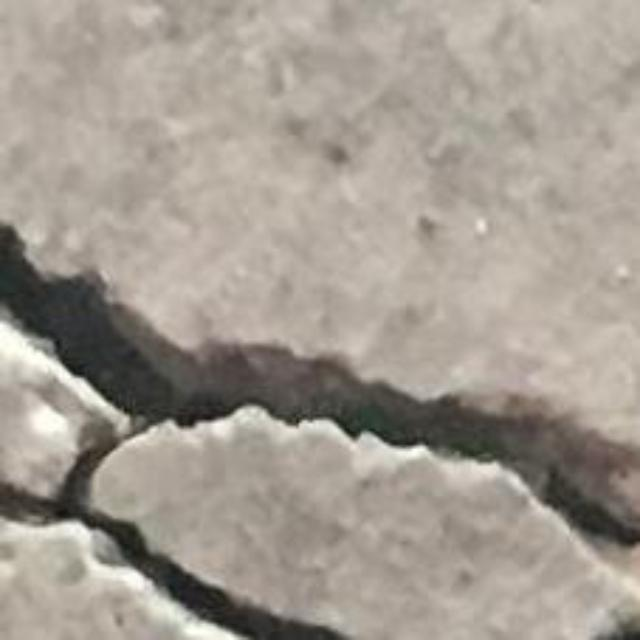crack: (0, 226, 639, 546)
